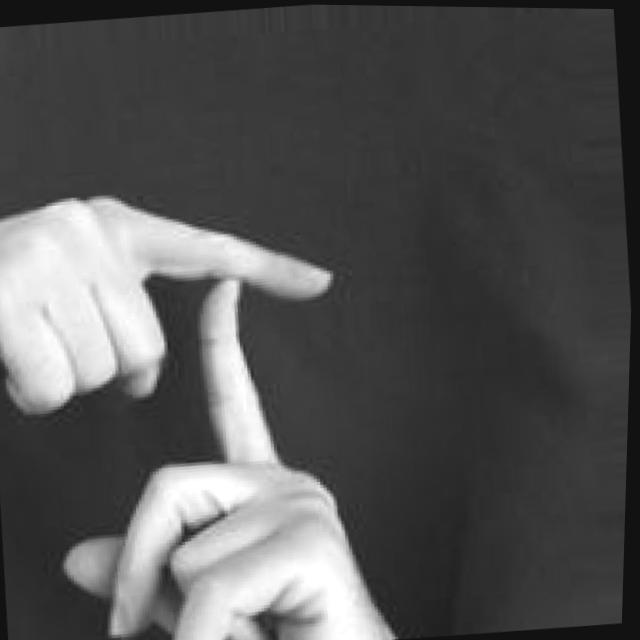T: (0, 140, 434, 640)
